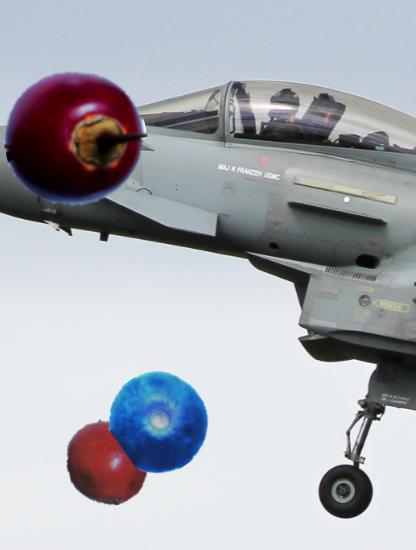Huckleberry: (109, 371, 211, 473)
Pomegranate: (64, 419, 152, 507)
Tamarillo: (4, 67, 147, 210)
